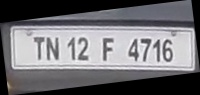character: (45, 35, 60, 61), (101, 36, 115, 61), (126, 37, 140, 62), (139, 37, 153, 62), (33, 35, 46, 61), (77, 35, 90, 61), (161, 37, 174, 62), (151, 37, 161, 63), (66, 36, 76, 61)
